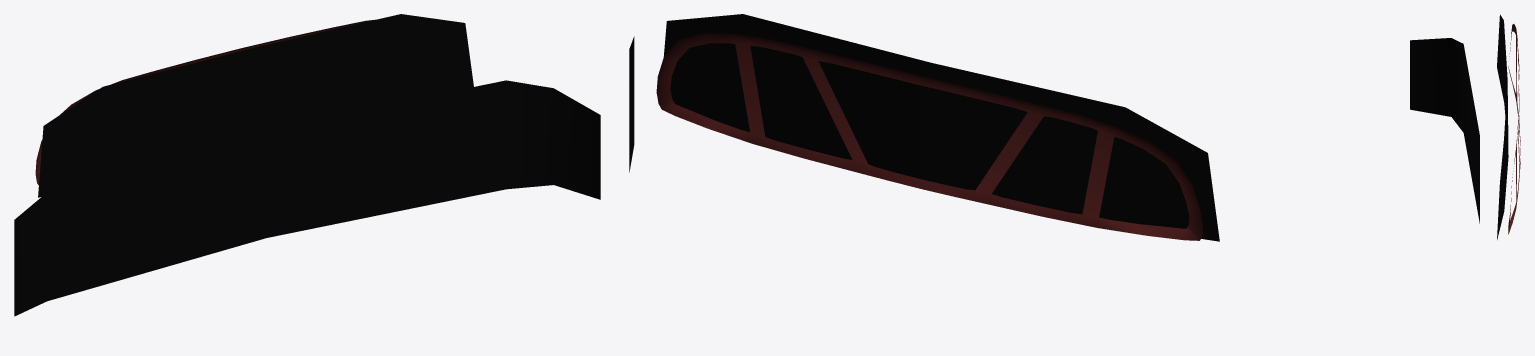
Rendered from Supra_RearBar_02_Trim.fbx.
The picture shows the model from 3 angles, left to right: view 1: azimuth 30°, elevation 25°; view 2: azimuth 150°, elevation 25°; view 3: azimuth 270°, elevation 25°; orthographic projection. The views are drawn at different scales.
Visible parts, largest first — view 1: Supra_RearBar_02_Trim; view 2: Supra_RearBar_02_Trim; view 3: Supra_RearBar_02_Trim.
Boxes of the visible parts, x1,y1,x2,y2 form: Supra_RearBar_02_Trim: (14,14,600,316); Supra_RearBar_02_Trim: (629,14,1219,241); Supra_RearBar_02_Trim: (1410,14,1520,239).
Bounding box in the file's own units: 134 × 39.15 × 26.94.
